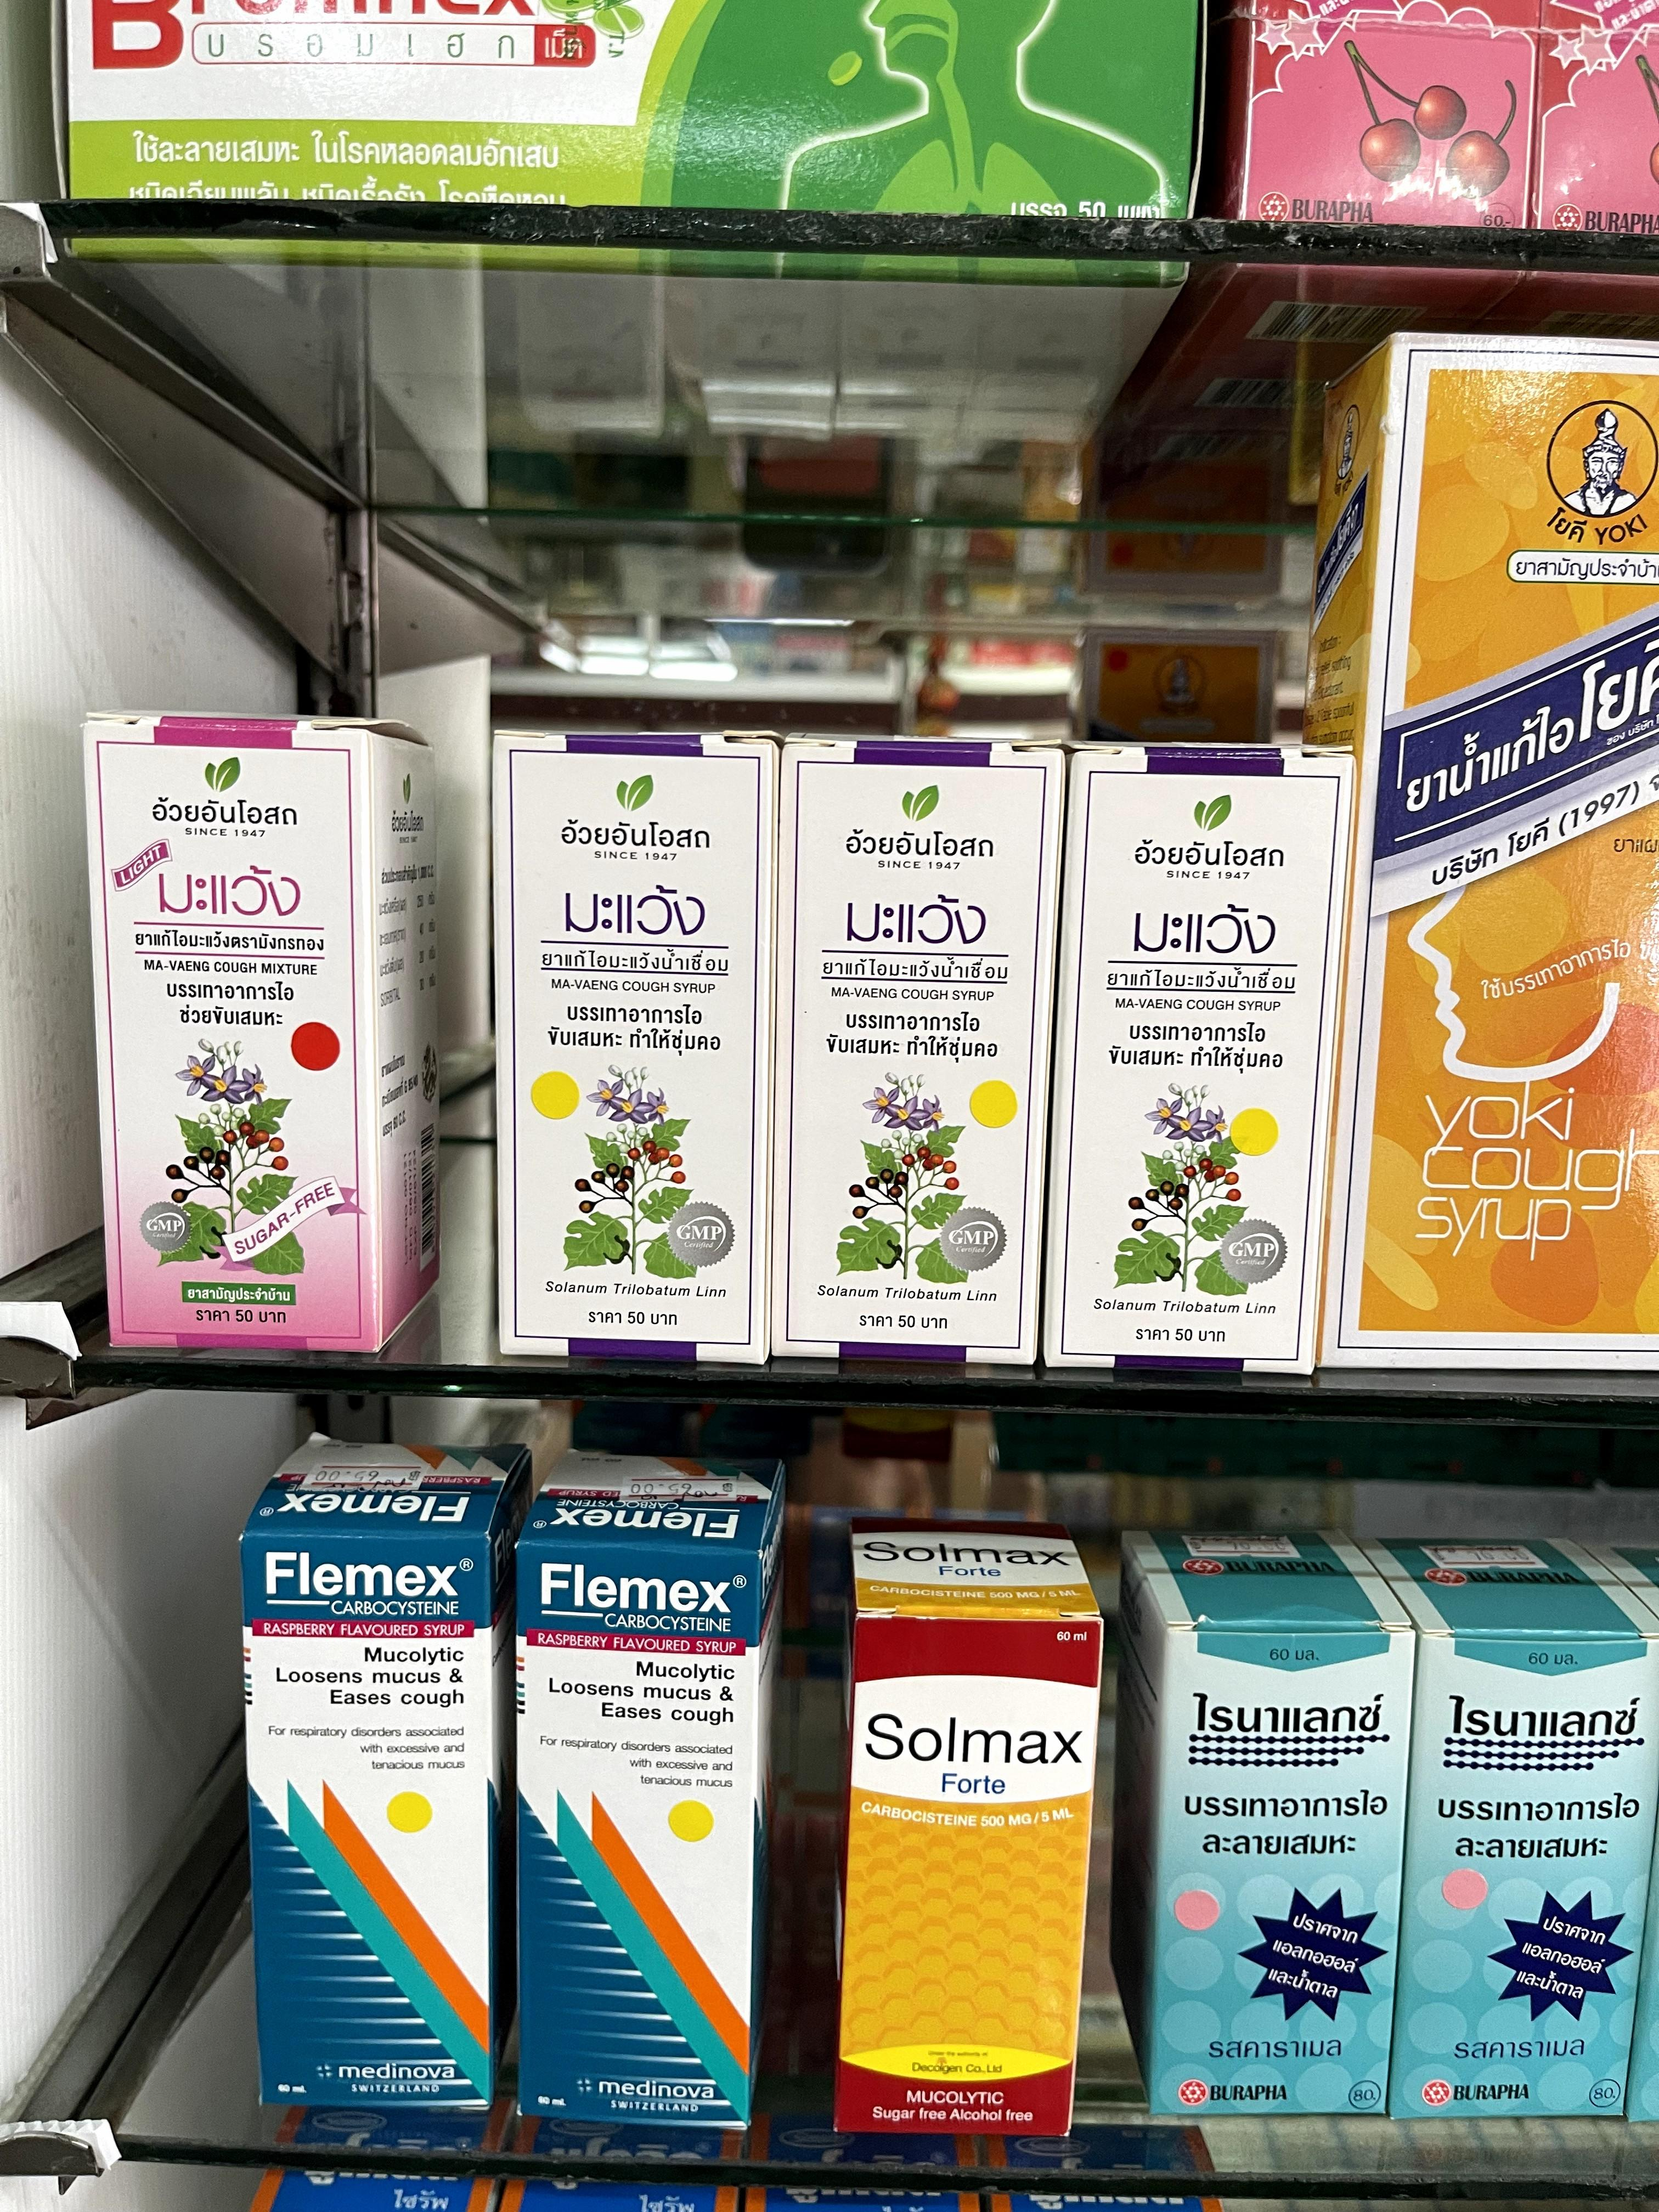Ma-Vaeng_Light: (87, 702, 441, 1359)
Ma-Vaeng_Syrup: (1056, 740, 1342, 1371), (491, 730, 775, 1355), (779, 735, 1046, 1374)
Rhinalax: (1119, 1526, 1408, 2118), (1377, 1533, 1659, 2114)
Solmax: (842, 1526, 1091, 2137)
